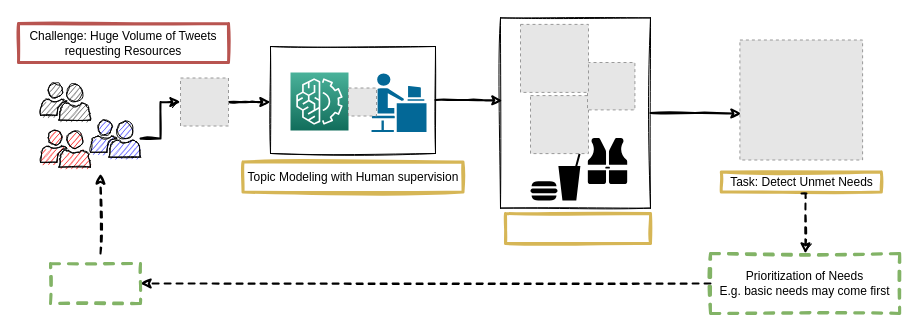
This 919x332 diagram has some shape labels left out. Grey dashed boxes stand in for pictures. The shapes that lost their labels are listed below. From the top down, each one's centre as x and y in pixels, then its label:
At (x=578, y=228): "Tweets with Human Needs".
At (x=95, y=283): "Take Action".
